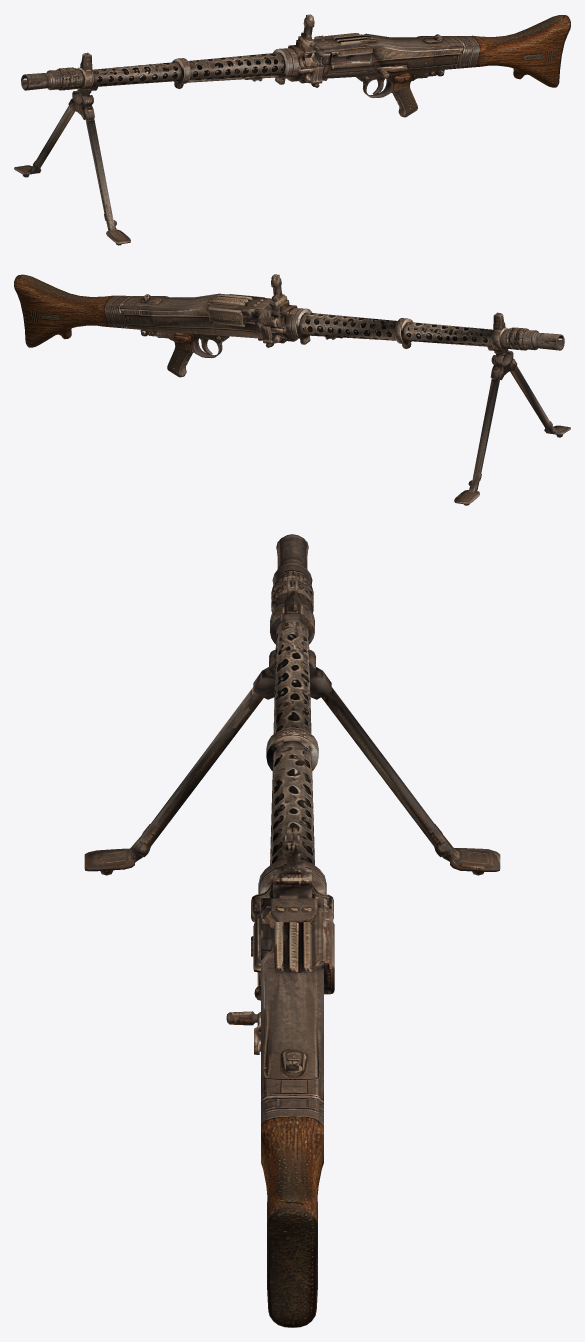
The model's file is statecraft-mg34-approved-textured-3a384995.glb.
3 views of the same model, one above another, from view 1: azimuth 30°, elevation 25°; view 2: azimuth 150°, elevation 25°; view 3: azimuth 270°, elevation 25° (orthographic). The views are drawn at different scales.
Visible parts, largest first — view 1: tripo_node_7835fdd4-95fe-45c2-bcae-e98db31eb2c9; view 2: tripo_node_7835fdd4-95fe-45c2-bcae-e98db31eb2c9; view 3: tripo_node_7835fdd4-95fe-45c2-bcae-e98db31eb2c9.
Part boxes in pixels (x1=…): tripo_node_7835fdd4-95fe-45c2-bcae-e98db31eb2c9: x1=14, y1=14, x2=570, y2=245; tripo_node_7835fdd4-95fe-45c2-bcae-e98db31eb2c9: x1=14, y1=274, x2=570, y2=505; tripo_node_7835fdd4-95fe-45c2-bcae-e98db31eb2c9: x1=84, y1=534, x2=500, y2=1327.
Size of the model in its own units: 0.9995 by 0.27 by 0.3306.
Materials: 1 (1 with a texture image).
